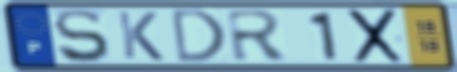1: (307, 10, 340, 62)
D: (169, 6, 228, 65)
K: (115, 10, 167, 63)
R: (223, 8, 293, 64)
S: (51, 7, 113, 65)
X: (346, 7, 406, 65)
